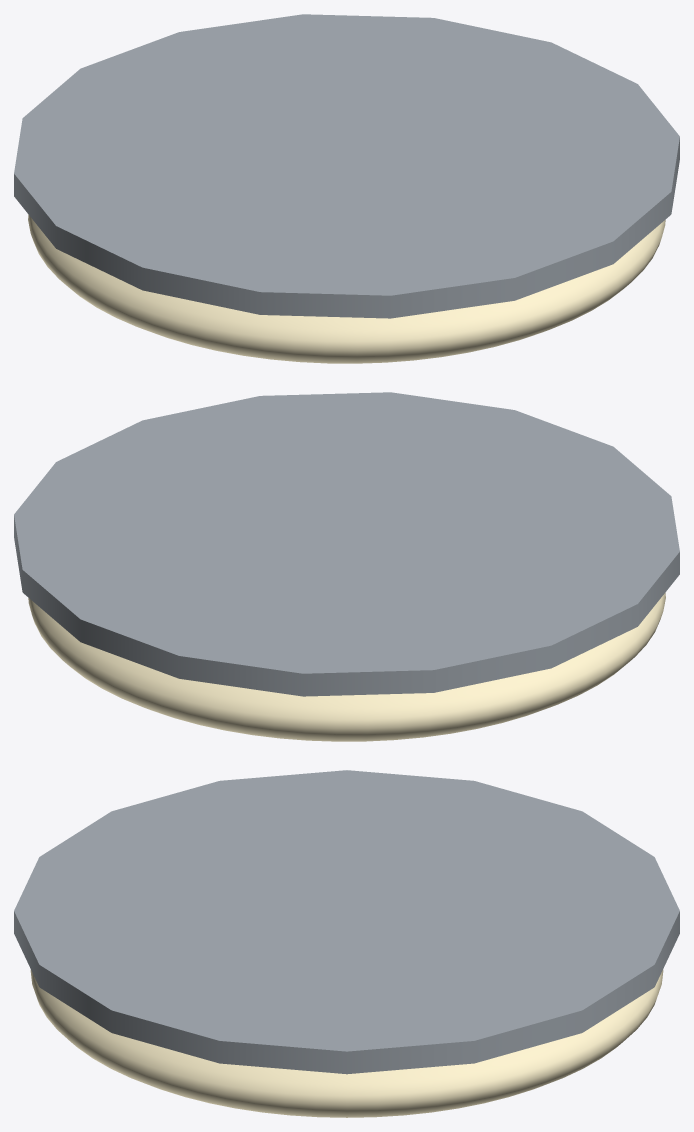
The model's file is Ufolampa.obj.
The picture shows the model from 3 angles, top to bottom: view 1: azimuth 30°, elevation 25°; view 2: azimuth 150°, elevation 25°; view 3: azimuth 270°, elevation 25°; orthographic projection.
Size of the model in its own units: 0.4 by 0.08 by 0.4.
